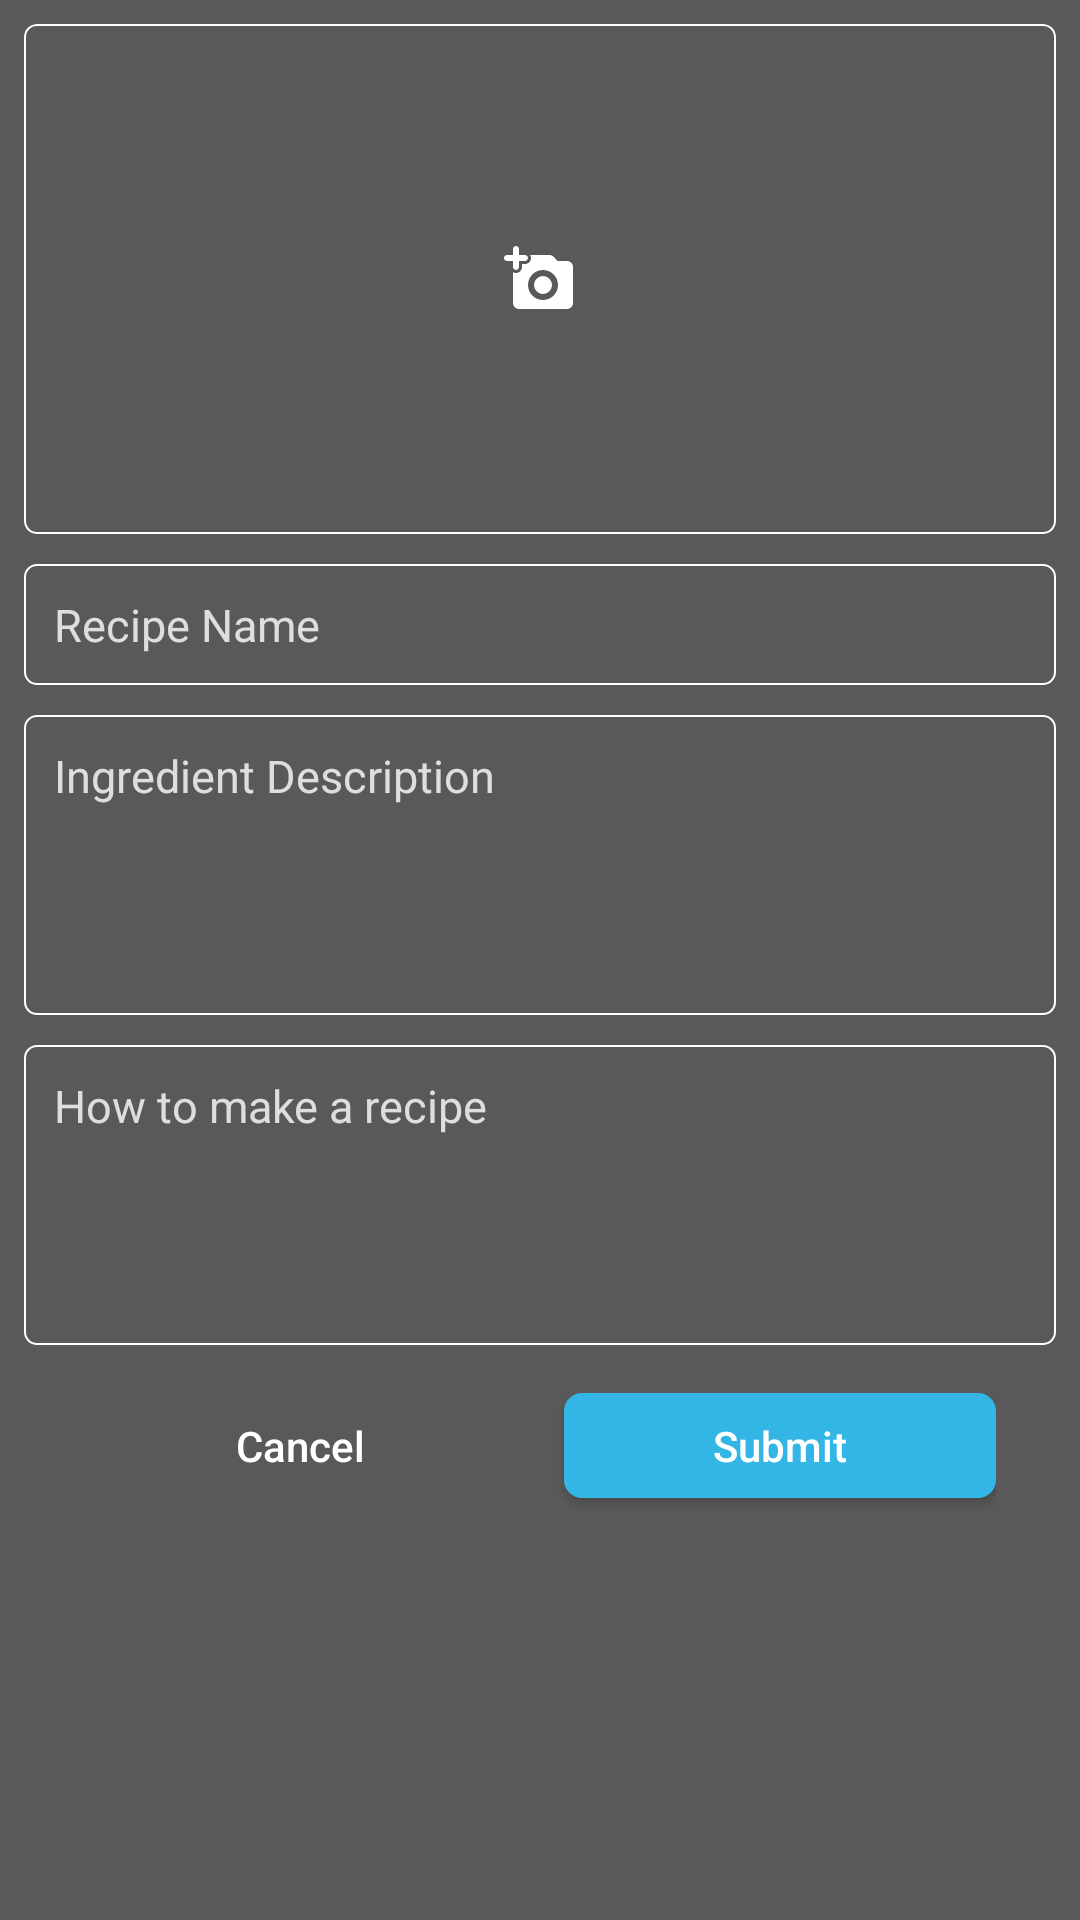

Locate icon controls on the screen. Image size 1080×1920, boxes as bbox(x1, y1, x2, y2).
add photo: bbox(504, 246, 573, 309)
